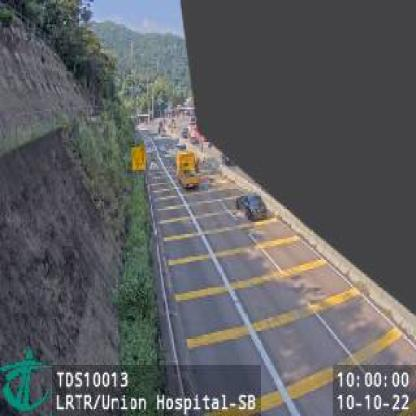Car: (238, 192, 269, 220)
Truck: (175, 146, 201, 189)
